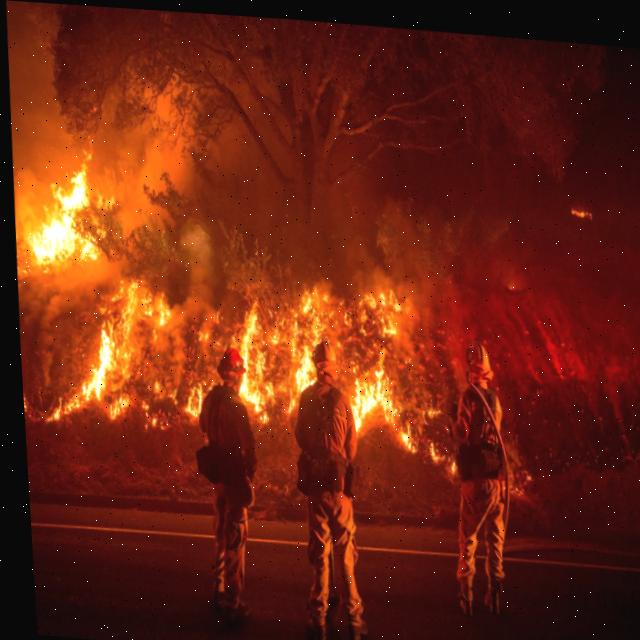fire: (40, 278, 421, 454), (21, 163, 96, 276)
smoke: (6, 0, 402, 301)
